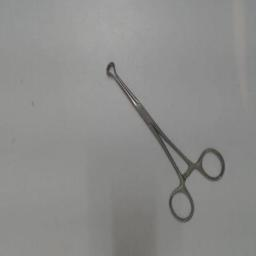Babcock Tissue Forceps: (106, 58, 228, 224)
